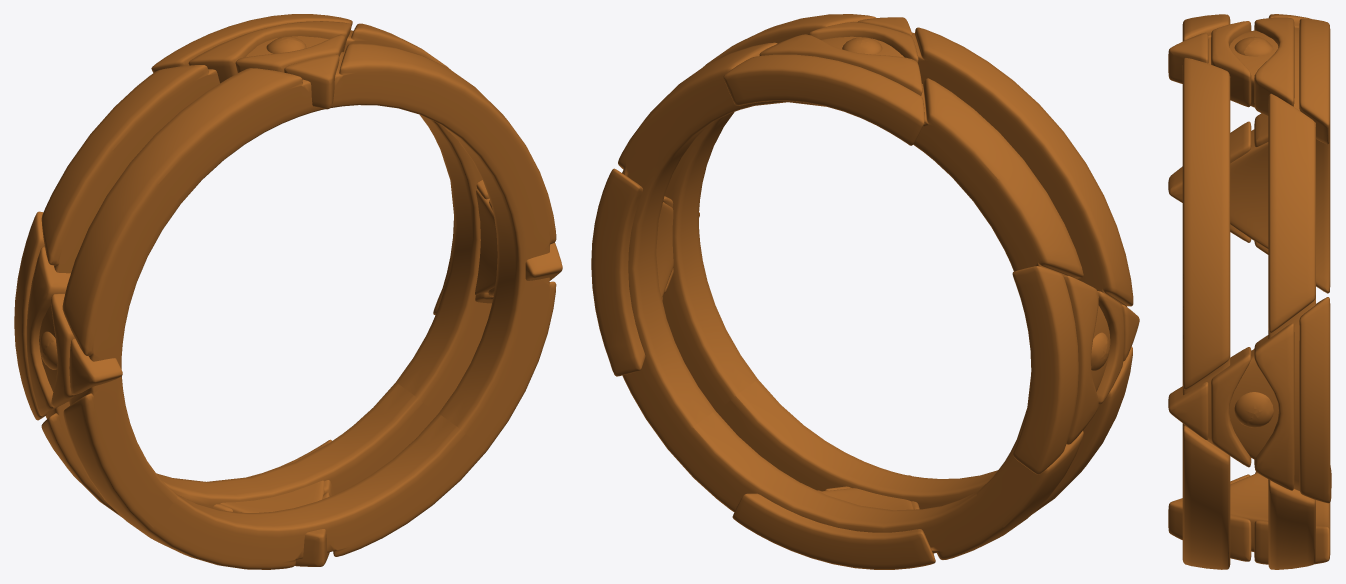
3 renders of one model, left to right at view 1: azimuth 30°, elevation 25°; view 2: azimuth 150°, elevation 25°; view 3: azimuth 270°, elevation 25°, orthographic.
Visible parts, largest first — view 1: ring_10; view 2: ring_10; view 3: ring_10.
Part boxes in pixels (x1,y1,x2,y2): ring_10: [14, 14, 562, 569]; ring_10: [591, 14, 1139, 569]; ring_10: [1168, 14, 1331, 569].
Size of the model in its own units: 31.82 by 31.52 by 9.24.
